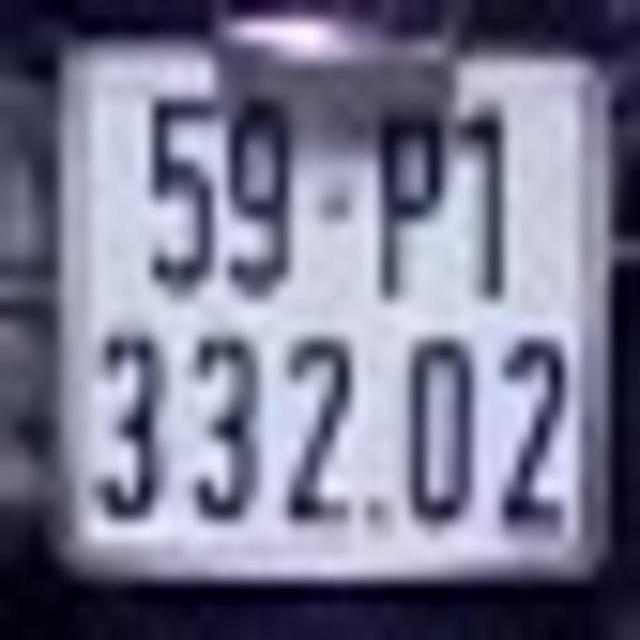0: (400, 333, 483, 528)
1: (459, 111, 520, 304)
2: (490, 328, 578, 521), (284, 334, 364, 528)
3: (184, 330, 266, 533), (92, 325, 168, 522)
5: (139, 90, 225, 296)
9: (231, 93, 299, 310)
P: (372, 112, 450, 314)
